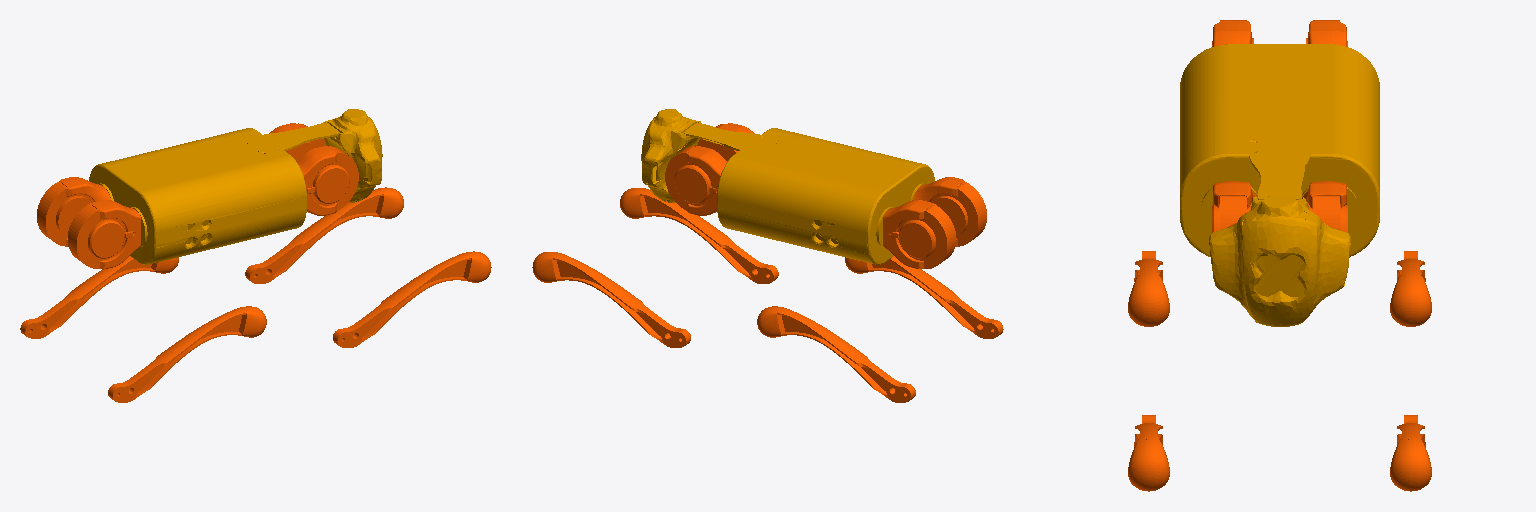
--- Facts derived from the render (not from the file) ---
Views: 3 orthographic renders of the robot side by side, from view 1: azimuth 30°, elevation 25°; view 2: azimuth 150°, elevation 25°; view 3: azimuth 270°, elevation 25°.
Robot: robot — 18 links, 17 joints (12 revolute, 5 fixed); root link base; default pose: all joints at 0 but 4 set to mid-range because 0 is outside their limits (FL_calf_joint = -1.85, RL_calf_joint = -1.85, FR_calf_joint = -1.85, RR_calf_joint = -1.85).
Visible links, largest first — view 1: base, RR_hip, RR_calf, FR_calf, FL_calf, FR_hip, RL_calf, RL_hip, FL_hip; view 2: base, RL_hip, RL_calf, FL_calf, FR_calf, FL_hip, RR_calf, RR_hip, FR_hip; view 3: base, FL_calf, FR_calf, RL_calf, RR_calf, FL_hip, FR_hip, RL_hip, RR_hip.
Boxes of the visible links, x1,y1,x2,y2 form: base: (89,109,382,264); RR_hip: (68,200,140,268); RR_calf: (108,306,266,402); FR_calf: (333,251,491,347); FL_calf: (245,187,403,283); FR_hip: (297,146,358,215); RL_calf: (20,256,178,338); RL_hip: (37,177,110,246); FL_hip: (269,123,326,161); base: (641,109,934,264); RL_hip: (883,200,955,268); RL_calf: (757,306,915,402); FL_calf: (532,252,690,347); FR_calf: (620,188,778,283); FL_hip: (665,146,726,215); RR_calf: (845,256,1003,338); RR_hip: (913,177,986,246); FR_hip: (697,123,754,160); base: (1180,44,1379,326); FL_calf: (1390,415,1431,491); FR_calf: (1128,415,1169,491); RL_calf: (1390,251,1431,326); RR_calf: (1128,251,1169,326); FL_hip: (1302,181,1347,277); FR_hip: (1212,181,1257,232); RL_hip: (1306,20,1347,46); RR_hip: (1212,20,1253,46).
Size in the robot's own frame: 0.6511 by 0.294 by 0.3019 metres.
Meshes: 5 distinct files referenced, 9 mesh visuals loaded (3 binary STL); not drawn: 4 (reference not matched to a file when rendering).

The robot description file, URDF, robot "robot":
<?xml version="1.0" ?>
<!-- =================================================================================== -->
<!-- |    This document was autogenerated by xacro from robot.xacro                    | -->
<!-- |    EDITING THIS FILE BY HAND IS NOT RECOMMENDED                                 | -->
<!-- =================================================================================== -->
<robot name="robot">
  <material name="black">
    <color rgba="0.0 0.0 0.0 1.0"/>
  </material>
  <material name="blue">
    <color rgba="0.0 0.0 0.8 1.0"/>
  </material>
  <material name="green">
    <color rgba="0.0 0.8 0.0 1.0"/>
  </material>
  <material name="grey">
    <color rgba="0.2 0.2 0.2 1.0"/>
  </material>
  <material name="silver">
    <color rgba="0.9137254901960784 0.9137254901960784 0.8470588235294118 1.0"/>
  </material>
  <material name="orange">
    <color rgba="1.0 0.4235294117647059 0.0392156862745098 1.0"/>
  </material>
  <material name="brown">
    <color rgba="0.8705882352941177 0.8117647058823529 0.7647058823529411 1.0"/>
  </material>
  <material name="red">
    <color rgba="0.8 0.0 0.0 1.0"/>
  </material>
  <material name="white">
    <color rgba="1.0 1.0 1.0 1.0"/>
  </material>
  <!-- ros_control plugin -->
  <gazebo>
    <plugin filename="liblegged_hw_sim.so" name="gazebo_ros_control">
      <robotNamespace>/</robotNamespace>
      <robotParam>legged_robot_description</robotParam>
      <robotSimType>legged_gazebo/LeggedHWSim</robotSimType>
    </plugin>
  </gazebo>
  <gazebo>
    <plugin filename="libgazebo_ros_p3d.so" name="p3d_base_controller">
      <alwaysOn>true</alwaysOn>
      <updateRate>1000.0</updateRate>
      <bodyName>base</bodyName>
      <topicName>ground_truth/state</topicName>
      <gaussianNoise>0</gaussianNoise>
      <frameName>world</frameName>
      <xyzOffsets>0 0 0</xyzOffsets>
      <rpyOffsets>0 0 0</rpyOffsets>
    </plugin>
  </gazebo>

  <!-- <link name="world_base">
    <visual>
      <origin rpy="0 0 0" xyz="0 0 0"/>
      <geometry>
        <box size="0.001 0.001 0.001"/>
      </geometry>
    </visual>
  </link>
  <joint name="floating_base" type="floating">
    <origin rpy="0 0 0" xyz="0 0 0"/>
    <parent link="world_base"/>
    <child link="base"/>
  </joint> -->

  <link name="base">
    <visual>
      <origin rpy="0 0 0" xyz="0 0 0"/>
      <geometry>
        <mesh filename="../meshes/trunk.stl" scale="1 1 1"/>
      </geometry>
    </visual>
    <collision>
      <origin rpy="0 0 0" xyz="0 0 0"/>
      <geometry>
        <box size="0.3762 0.0935 0.114"/>
      </geometry>
    </collision>
    <inertial>
      <origin rpy="0 0 0" xyz="0.0223 0.002 -0.0005"/>
      <mass value="5.204"/>
      <inertia ixx="0.0168128557" ixy="-0.0002296769" ixz="-0.0002945293" iyy="0.063009565" iyz="-4.18731e-05" izz="0.0716547275"/>
    </inertial>
  </link>
  <!-- Imu is fixed to the base link -->
  <joint name="imu_joint" type="fixed">
    <origin rpy="0. 0. 0." xyz="0. 0. 0."/>
    <parent link="base"/>
    <child link="imu"/>
  </joint>
  <!-- Imu link -->
  <link name="imu">
    <inertial>
      <mass value="0.01"/>
      <origin rpy="0 0 0" xyz="0 0 0"/>
      <inertia ixx="0.000001" ixy="0" ixz="0" iyy="0.000001" iyz="0" izz="0.000001"/>
    </inertial>
    <visual>
      <origin rpy="0 0 0" xyz="0 0 0"/>
      <geometry>
        <box size="0.015 0.015 0.004"/>
      </geometry>
    </visual>
    <material name="orange">
      <color rgba="255 108 10 255"/>
    </material>
  </link>
  <gazebo reference="imu">
    <material>Gazebo/Orange</material>
  </gazebo>
  <gazebo reference="imu_joint">
    <disableFixedJointLumping>true</disableFixedJointLumping>
  </gazebo>
  <joint name="FL_hip_joint" type="revolute">
    <origin rpy="0 0 0" xyz="0.1881 0.04675 0"/>
    <parent link="base"/>
    <child link="FL_hip"/>
    <axis xyz="1 0 0"/>
    <dynamics damping="0.0" friction="0.0"/>
    <limit effort="23.7" lower="-0.863" upper="0.863" velocity="30.1"/>
  </joint>
  <link name="FL_hip">
    <visual>
      <origin rpy="0 0 0" xyz="0 0 0"/>
      <geometry>
        <mesh filename="../meshes/hip.stl" scale="1 1 1"/>
      </geometry>
      <material name="orange"/>
    </visual>
    <!-- <collision>
      <origin rpy="1.5707963267948966 0 0" xyz="0 0 0"/>
      <geometry>
        <cylinder length="0.04" radius="0.046"/>
      </geometry>
    </collision> -->
    <inertial>
      <origin rpy="0 0 0" xyz="-0.005657 -0.008752 -0.000102"/>
      <mass value="0.591"/>
      <inertia ixx="0.000334008405" ixy="-1.0826066e-05" ixz="1.290732e-06" iyy="0.000619101213" iyz="1.643194e-06" izz="0.00040057614"/>
    </inertial>
  </link>
  <joint name="FL_thigh_joint" type="revolute">
    <origin rpy="0 0 0" xyz="0 0.08 0"/>
    <parent link="FL_hip"/>
    <child link="FL_thigh"/>
    <axis xyz="0 1 0"/>
    <dynamics damping="0.0" friction="0.0"/>
    <limit effort="23.7" lower="-0.686" upper="4.501" velocity="30.1"/>
  </joint>
  <link name="FL_thigh">
    <visual>
      <origin rpy="0 0 0" xyz="0 0 0"/>
      <geometry>
        <mesh filename="../meshes/thigh.stl" scale="1 1 1"/>
      </geometry>
      <material name="orange"/>
    </visual>
    <collision>
      <origin rpy="0 1.6707963267948966 0" xyz="-0.015 0 -0.1065"/>
      <geometry>
        <box size="0.213 0.0245 0.034"/>
      </geometry>
    </collision>
    <!-- fuck -->
    <!-- <collision>
      <origin rpy="1.5707963267948966 0 0" xyz="0 -0.008 0"/>
      <geometry>
        <cylinder length="0.032" radius="0.041"/>
      </geometry>
    </collision> -->
    <inertial>
      <origin rpy="0 0 0" xyz="-0.003342 -0.018054 -0.033451"/>
      <mass value="0.92"/>
      <inertia ixx="0.004431760472" ixy="5.7496807e-05" ixz="-0.000218457134" iyy="0.004485671726" iyz="0.000572001265" izz="0.000740309489"/>
    </inertial>
  </link>
  <joint name="FL_calf_joint" type="revolute">
    <origin rpy="0 0 0" xyz="0 0 -0.213"/>
    <parent link="FL_thigh"/>
    <child link="FL_calf"/>
    <axis xyz="0 1 0"/>
    <dynamics damping="0.0" friction="0.0"/>
    <limit effort="35.55" lower="-2.818" upper="-0.888" velocity="20.06"/>
  </joint>
  <link name="FL_calf">
    <visual>
      <origin rpy="0 0 0" xyz="0 0 0"/>
      <geometry>
        <mesh filename="../meshes/calf.stl" scale="1 1 1"/>
      </geometry>
      <material name="orange"/>
    </visual>
    <collision>
      <origin rpy="0 1.5707963267948966 0" xyz="0.0 0 -0.1065"/>
      <geometry>
        <box size="0.213 0.016 0.016"/>
      </geometry>
    </collision>
    <inertial>
      <origin rpy="0 0 0" xyz="0.006197 0.001408 -0.116695"/>
      <mass value="0.135862"/>
      <inertia ixx="0.001088793059" ixy="-2.55679e-07" ixz="7.117814e-06" iyy="0.001100428748" iyz="2.077264e-06" izz="2.4787446e-05"/>
    </inertial>
  </link>
  <joint dont_collapse="true" name="FL_foot_fixed" type="fixed">
    <origin rpy="0 0 0" xyz="0 0 -0.213"/>
    <parent link="FL_calf"/>
    <child link="FL_foot"/>
  </joint>
  <link name="FL_foot">
    <visual>
      <origin rpy="0 0 0" xyz="0 0 0"/>
      <geometry>
        <sphere radius="0.01"/>
      </geometry>
      <material name="orange"/>
    </visual>
    <collision>
      <origin rpy="0 0 0" xyz="0 0 0"/>
      <geometry>
        <sphere radius="0.02"/>
      </geometry>
    </collision>
    <inertial>
      <mass value="0.06"/>
      <inertia ixx="9.600000000000001e-06" ixy="0.0" ixz="0.0" iyy="9.600000000000001e-06" iyz="0.0" izz="9.600000000000001e-06"/>
    </inertial>
  </link>
  <gazebo reference="FL_foot_fixed">
    <disableFixedJointLumping>true</disableFixedJointLumping>
  </gazebo>
  <gazebo reference="FL_hip">
    <mu1>0.2</mu1>
    <mu2>0.2</mu2>
    <material>Gazebo/DarkGrey</material>
  </gazebo>
  <gazebo reference="FL_thigh">
    <mu1>0.2</mu1>
    <mu2>0.2</mu2>
    <self_collide>0</self_collide>
    <material>Gazebo/DarkGrey</material>
    <kp value="1000000.0"/>
    <kd value="100.0"/>
  </gazebo>
  <gazebo reference="FL_calf">
    <mu1>0.6</mu1>
    <mu2>0.6</mu2>
    <self_collide>1</self_collide>
  </gazebo>
  <gazebo reference="FL_foot">
    <mu1>0.6</mu1>
    <mu2>0.6</mu2>
    <self_collide>1</self_collide>
    <material>Gazebo/DarkGrey</material>
    <kp value="1000000.0"/>
    <kd value="100.0"/>
  </gazebo>
  <transmission name="FL_HAA_tran">
    <type>transmission_interface/SimpleTransmission</type>
    <joint name="FL_HAA">
      <hardwareInterface>hardware_interface/EffortJointInterface</hardwareInterface>
    </joint>
    <actuator name="FL_HAA_motor">
      <hardwareInterface>hardware_interface/EffortJointInterface</hardwareInterface>
      <mechanicalReduction>1</mechanicalReduction>
    </actuator>
  </transmission>
  <transmission name="FL_HFE_tran">
    <type>transmission_interface/SimpleTransmission</type>
    <joint name="FL_HFE">
      <hardwareInterface>hardware_interface/EffortJointInterface</hardwareInterface>
    </joint>
    <actuator name="FL_HFE_motor">
      <hardwareInterface>hardware_interface/EffortJointInterface</hardwareInterface>
      <mechanicalReduction>1</mechanicalReduction>
    </actuator>
  </transmission>
  <transmission name="FL_KFE_tran">
    <type>transmission_interface/SimpleTransmission</type>
    <joint name="FL_KFE">
      <hardwareInterface>hardware_interface/EffortJointInterface</hardwareInterface>
    </joint>
    <actuator name="FL_KFE_motor">
      <hardwareInterface>hardware_interface/EffortJointInterface</hardwareInterface>
      <mechanicalReduction>1</mechanicalReduction>
    </actuator>
  </transmission>
  <joint name="RL_hip_joint" type="revolute">
    <origin rpy="0 0 0" xyz="-0.1881 0.04675 0"/>
    <parent link="base"/>
    <child link="RL_hip"/>
    <axis xyz="1 0 0"/>
    <dynamics damping="0.0" friction="0.0"/>
    <limit effort="23.7" lower="-0.863" upper="0.863" velocity="30.1"/>
  </joint>
  <link name="RL_hip">
    <visual>
      <origin rpy="0 3.141592653589793 0" xyz="0 0 0"/>
      <geometry>
        <mesh filename="../meshes/hip.stl" scale="1 1 1"/>
      </geometry>
      <material name="orange"/>
    </visual>
    <!-- <collision>
      <origin rpy="1.5707963267948966 0 0" xyz="0 0 0"/>
      <geometry>
        <cylinder length="0.04" radius="0.046"/>
      </geometry>
    </collision> -->
    <inertial>
      <origin rpy="0 0 0" xyz="0.005657 -0.008752 -0.000102"/>
      <mass value="0.591"/>
      <inertia ixx="0.000334008405" ixy="1.0826066e-05" ixz="-1.290732e-06" iyy="0.000619101213" iyz="1.643194e-06" izz="0.00040057614"/>
    </inertial>
  </link>
  <joint name="RL_thigh_joint" type="revolute">
    <origin rpy="0 0 0" xyz="0 0.08 0"/>
    <parent link="RL_hip"/>
    <child link="RL_thigh"/>
    <axis xyz="0 1 0"/>
    <dynamics damping="0.0" friction="0.0"/>
    <limit effort="23.7" lower="-0.686" upper="4.501" velocity="30.1"/>
  </joint>
  <link name="RL_thigh">
    <visual>
      <origin rpy="0 0 0" xyz="0 0 0"/>
      <geometry>
        <mesh filename="../meshes/thigh.stl" scale="1 1 1"/>
      </geometry>
      <material name="orange"/>
    </visual>
    <collision>
      <origin rpy="0 1.6707963267948966 0" xyz="-0.015 0 -0.1065"/>
      <geometry>
        <box size="0.213 0.0245 0.034"/>
      </geometry>
    </collision>
    <!-- fuck -->
    <!-- <collision>
      <origin rpy="1.5707963267948966 0 0" xyz="0 -0.008 0"/>
      <geometry>
        <cylinder length="0.032" radius="0.041"/>
      </geometry>
    </collision> -->
    <inertial>
      <origin rpy="0 0 0" xyz="-0.003342 -0.018054 -0.033451"/>
      <mass value="0.92"/>
      <inertia ixx="0.004431760472" ixy="5.7496807e-05" ixz="-0.000218457134" iyy="0.004485671726" iyz="0.000572001265" izz="0.000740309489"/>
    </inertial>
  </link>
  <joint name="RL_calf_joint" type="revolute">
    <origin rpy="0 0 0" xyz="0 0 -0.213"/>
    <parent link="RL_thigh"/>
    <child link="RL_calf"/>
    <axis xyz="0 1 0"/>
    <dynamics damping="0.0" friction="0.0"/>
    <limit effort="35.55" lower="-2.818" upper="-0.888" velocity="20.06"/>
  </joint>
  <link name="RL_calf">
    <visual>
      <origin rpy="0 0 0" xyz="0 0 0"/>
      <geometry>
        <mesh filename="../meshes/calf.stl" scale="1 1 1"/>
      </geometry>
      <material name="orange"/>
    </visual>
    <collision>
      <origin rpy="0 1.5707963267948966 0" xyz="0.0 0 -0.1065"/>
      <geometry>
        <box size="0.213 0.016 0.016"/>
      </geometry>
    </collision>
    <inertial>
      <origin rpy="0 0 0" xyz="0.006197 0.001408 -0.116695"/>
      <mass value="0.135862"/>
      <inertia ixx="0.001088793059" ixy="-2.55679e-07" ixz="7.117814e-06" iyy="0.001100428748" iyz="2.077264e-06" izz="2.4787446e-05"/>
    </inertial>
  </link>
  <joint dont_collapse="true" name="RL_foot_fixed" type="fixed">
    <origin rpy="0 0 0" xyz="0 0 -0.213"/>
    <parent link="RL_calf"/>
    <child link="RL_foot"/>
  </joint>
  <link name="RL_foot">
    <visual>
      <origin rpy="0 0 0" xyz="0 0 0"/>
      <geometry>
        <sphere radius="0.01"/>
      </geometry>
      <material name="orange"/>
    </visual>
    <collision>
      <origin rpy="0 0 0" xyz="0 0 0"/>
      <geometry>
        <sphere radius="0.02"/>
      </geometry>
    </collision>
    <inertial>
      <mass value="0.06"/>
      <inertia ixx="9.600000000000001e-06" ixy="0.0" ixz="0.0" iyy="9.600000000000001e-06" iyz="0.0" izz="9.600000000000001e-06"/>
    </inertial>
  </link>
  <gazebo reference="RL_foot_fixed">
    <disableFixedJointLumping>true</disableFixedJointLumping>
  </gazebo>
  <gazebo reference="RL_hip">
    <mu1>0.2</mu1>
    <mu2>0.2</mu2>
    <material>Gazebo/DarkGrey</material>
  </gazebo>
  <gazebo reference="RL_thigh">
    <mu1>0.2</mu1>
    <mu2>0.2</mu2>
    <self_collide>0</self_collide>
    <material>Gazebo/DarkGrey</material>
    <kp value="1000000.0"/>
    <kd value="100.0"/>
  </gazebo>
  <gazebo reference="RL_calf">
    <mu1>0.6</mu1>
    <mu2>0.6</mu2>
    <self_collide>1</self_collide>
  </gazebo>
  <gazebo reference="RL_foot">
    <mu1>0.6</mu1>
    <mu2>0.6</mu2>
    <self_collide>1</self_collide>
    <material>Gazebo/DarkGrey</material>
    <kp value="1000000.0"/>
    <kd value="100.0"/>
  </gazebo>
  <transmission name="RL_HAA_tran">
    <type>transmission_interface/SimpleTransmission</type>
    <joint name="RL_HAA">
      <hardwareInterface>hardware_interface/EffortJointInterface</hardwareInterface>
    </joint>
    <actuator name="RL_HAA_motor">
      <hardwareInterface>hardware_interface/EffortJointInterface</hardwareInterface>
      <mechanicalReduction>1</mechanicalReduction>
    </actuator>
  </transmission>
  <transmission name="RL_HFE_tran">
    <type>transmission_interface/SimpleTransmission</type>
    <joint name="RL_HFE">
      <hardwareInterface>hardware_interface/EffortJointInterface</hardwareInterface>
    </joint>
    <actuator name="RL_HFE_motor">
      <hardwareInterface>hardware_interface/EffortJointInterface</hardwareInterface>
      <mechanicalReduction>1</mechanicalReduction>
    </actuator>
  </transmission>
  <transmission name="RL_KFE_tran">
    <type>transmission_interface/SimpleTransmission</type>
    <joint name="RL_KFE">
      <hardwareInterface>hardware_interface/EffortJointInterface</hardwareInterface>
    </joint>
    <actuator name="RL_KFE_motor">
      <hardwareInterface>hardware_interface/EffortJointInterface</hardwareInterface>
      <mechanicalReduction>1</mechanicalReduction>
    </actuator>
  </transmission>
  <joint name="FR_hip_joint" type="revolute">
    <origin rpy="0 0 0" xyz="0.1881 -0.04675 0"/>
    <parent link="base"/>
    <child link="FR_hip"/>
    <axis xyz="1 0 0"/>
    <dynamics damping="0.0" friction="0.0"/>
    <limit effort="23.7" lower="-0.863" upper="0.863" velocity="30.1"/>
  </joint>
  <link name="FR_hip">
    <visual>
      <origin rpy="3.141592653589793 0 0" xyz="0 0 0"/>
      <geometry>
        <mesh filename="../meshes/hip.stl" scale="1 1 1"/>
      </geometry>
      <material name="orange"/>
    </visual>
    <!-- <collision>
      <origin rpy="1.5707963267948966 0 0" xyz="0 0 0"/>
      <geometry>
        <cylinder length="0.04" radius="0.046"/>
      </geometry>
    </collision> -->
    <inertial>
      <origin rpy="0 0 0" xyz="-0.005657 0.008752 -0.000102"/>
      <mass value="0.591"/>
      <inertia ixx="0.000334008405" ixy="1.0826066e-05" ixz="1.290732e-06" iyy="0.000619101213" iyz="-1.643194e-06" izz="0.00040057614"/>
    </inertial>
  </link>
  <joint name="FR_thigh_joint" type="revolute">
    <origin rpy="0 0 0" xyz="0 -0.08 0"/>
    <parent link="FR_hip"/>
    <child link="FR_thigh"/>
    <axis xyz="0 1 0"/>
    <dynamics damping="0.0" friction="0.0"/>
    <limit effort="23.7" lower="-0.686" upper="4.501" velocity="30.1"/>
  </joint>
  <link name="FR_thigh">
    <visual>
      <origin rpy="0 0 0" xyz="0 0 0"/>
      <geometry>
        <mesh filename="../meshes/thigh_mirror.stl" scale="1 1 1"/>
      </geometry>
      <material name="orange"/>
    </visual>
    <collision>
      <origin rpy="0 1.6707963267948966 0" xyz="-0.015 0 -0.1065"/>
      <geometry>
        <box size="0.213 0.0245 0.034"/>
      </geometry>
    </collision>
    <!-- fuck -->
    <!-- <collision>
      <origin rpy="1.5707963267948966 0 0" xyz="0 0.008 0"/>
      <geometry>
        <cylinder length="0.032" radius="0.041"/>
      </geometry>
    </collision> -->
    <inertial>
      <origin rpy="0 0 0" xyz="-0.003342 0.018054 -0.033451"/>
      <mass value="0.92"/>
      <inertia ixx="0.004431760472" ixy="-5.7496807e-05" ixz="-0.000218457134" iyy="0.004485671726" iyz="-0.000572001265" izz="0.000740309489"/>
    </inertial>
  </link>
  <joint name="FR_calf_joint" type="revolute">
    <origin rpy="0 0 0" xyz="0 0 -0.213"/>
    <parent link="FR_thigh"/>
    <child link="FR_calf"/>
    <axis xyz="0 1 0"/>
    <dynamics damping="0.0" friction="0.0"/>
    <limit effort="35.55" lower="-2.818" upper="-0.888" velocity="20.06"/>
  </joint>
  <link name="FR_calf">
    <visual>
      <origin rpy="0 0 0" xyz="0 0 0"/>
      <geometry>
        <mesh filename="../meshes/calf.stl" scale="1 1 1"/>
      </geometry>
      <material name="orange"/>
    </visual>
    <collision>
      <origin rpy="0 1.5707963267948966 0" xyz="0.0 0 -0.1065"/>
      <geometry>
        <box size="0.213 0.016 0.016"/>
      </geometry>
    </collision>
    <inertial>
      <origin rpy="0 0 0" xyz="0.006197 0.001408 -0.116695"/>
      <mass value="0.135862"/>
      <inertia ixx="0.001088793059" ixy="-2.55679e-07" ixz="7.117814e-06" iyy="0.001100428748" iyz="2.077264e-06" izz="2.4787446e-05"/>
    </inertial>
  </link>
  <joint dont_collapse="true" name="FR_foot_fixed" type="fixed">
    <origin rpy="0 0 0" xyz="0 0 -0.213"/>
    <parent link="FR_calf"/>
    <child link="FR_foot"/>
  </joint>
  <link name="FR_foot">
    <visual>
      <origin rpy="0 0 0" xyz="0 0 0"/>
      <geometry>
        <sphere radius="0.01"/>
      </geometry>
      <material name="orange"/>
    </visual>
    <collision>
      <origin rpy="0 0 0" xyz="0 0 0"/>
      <geometry>
        <sphere radius="0.02"/>
      </geometry>
    </collision>
    <inertial>
      <mass value="0.06"/>
      <inertia ixx="9.600000000000001e-06" ixy="0.0" ixz="0.0" iyy="9.600000000000001e-06" iyz="0.0" izz="9.600000000000001e-06"/>
    </inertial>
  </link>
  <gazebo reference="FR_foot_fixed">
    <disableFixedJointLumping>true</disableFixedJointLumping>
  </gazebo>
  <gazebo reference="FR_hip">
    <mu1>0.2</mu1>
    <mu2>0.2</mu2>
    <material>Gazebo/DarkGrey</material>
  </gazebo>
  <gazebo reference="FR_thigh">
    <mu1>0.2</mu1>
    <mu2>0.2</mu2>
    <self_collide>0</self_collide>
    <material>Gazebo/DarkGrey</material>
    <kp value="1000000.0"/>
    <kd value="100.0"/>
  </gazebo>
  <gazebo reference="FR_calf">
    <mu1>0.6</mu1>
    <mu2>0.6</mu2>
    <self_collide>1</self_collide>
  </gazebo>
  <gazebo reference="FR_foot">
    <mu1>0.6</mu1>
    <mu2>0.6</mu2>
    <self_collide>1</self_collide>
    <material>Gazebo/DarkGrey</material>
    <kp value="1000000.0"/>
    <kd value="100.0"/>
  </gazebo>
  <transmission name="FR_HAA_tran">
    <type>transmission_interface/SimpleTransmission</type>
    <joint name="FR_HAA">
      <hardwareInterface>hardware_interface/EffortJointInterface</hardwareInterface>
    </joint>
    <actuator name="FR_HAA_motor">
      <hardwareInterface>hardware_interface/EffortJointInterface</hardwareInterface>
      <mechanicalReduction>1</mechanicalReduction>
    </actuator>
  </transmission>
  <transmission name="FR_HFE_tran">
    <type>transmission_interface/SimpleTransmission</type>
    <joint name="FR_HFE">
      <hardwareInterface>hardware_interface/EffortJointInterface</hardwareInterface>
    </joint>
    <actuator name="FR_HFE_motor">
      <hardwareInterface>hardware_interface/EffortJointInterface</hardwareInterface>
      <mechanicalReduction>1</mechanicalReduction>
    </actuator>
  </transmission>
  <transmission name="FR_KFE_tran">
    <type>transmission_interface/SimpleTransmission</type>
    <joint name="FR_KFE">
      <hardwareInterface>hardware_interface/EffortJointInterface</hardwareInterface>
    </joint>
    <actuator name="FR_KFE_motor">
      <hardwareInterface>hardware_interface/EffortJointInterface</hardwareInterface>
      <mechanicalReduction>1</mechanicalReduction>
    </actuator>
  </transmission>
  <joint name="RR_hip_joint" type="revolute">
    <origin rpy="0 0 0" xyz="-0.1881 -0.04675 0"/>
    <parent link="base"/>
    <child link="RR_hip"/>
    <axis xyz="1 0 0"/>
    <dynamics damping="0.0" friction="0.0"/>
    <limit effort="23.7" lower="-0.863" upper="0.863" velocity="30.1"/>
  </joint>
  <link name="RR_hip">
    <visual>
      <origin rpy="3.141592653589793 3.141592653589793 0" xyz="0 0 0"/>
      <geometry>
        <mesh filename="../meshes/hip.stl" scale="1 1 1"/>
      </geometry>
      <material name="orange"/>
    </visual>
    <!-- <collision>
      <origin rpy="1.5707963267948966 0 0" xyz="0 0 0"/>
      <geometry>
        <cylinder length="0.04" radius="0.046"/>
      </geometry>
    </collision> -->
    <inertial>
      <origin rpy="0 0 0" xyz="0.005657 0.008752 -0.000102"/>
      <mass value="0.591"/>
      <inertia ixx="0.000334008405" ixy="-1.0826066e-05" ixz="-1.290732e-06" iyy="0.000619101213" iyz="-1.643194e-06" izz="0.00040057614"/>
    </inertial>
  </link>
  <joint name="RR_thigh_joint" type="revolute">
    <origin rpy="0 0 0" xyz="0 -0.08 0"/>
    <parent link="RR_hip"/>
    <child link="RR_thigh"/>
    <axis xyz="0 1 0"/>
    <dynamics damping="0.0" friction="0.0"/>
    <limit effort="23.7" lower="-0.686" upper="4.501" velocity="30.1"/>
  </joint>
  <link name="RR_thigh">
    <visual>
      <origin rpy="0 0 0" xyz="0 0 0"/>
      <geometry>
        <mesh filename="../meshes/thigh_mirror.stl" scale="1 1 1"/>
      </geometry>
      <material name="orange"/>
    </visual>
    <collision>
      <origin rpy="0 1.6707963267948966 0" xyz="-0.015 0 -0.1065"/>
      <geometry>
        <box size="0.213 0.0245 0.034"/>
      </geometry>
    </collision>
    <!-- fuck -->
    <!-- <collision>
      <origin rpy="1.5707963267948966 0 0" xyz="0 0.008 0"/>
      <geometry>
        <cylinder length="0.032" radius="0.041"/>
      </geometry>
    </collision> -->
    <inertial>
      <origin rpy="0 0 0" xyz="-0.003342 0.018054 -0.033451"/>
      <mass value="0.92"/>
      <inertia ixx="0.004431760472" ixy="-5.7496807e-05" ixz="-0.000218457134" iyy="0.004485671726" iyz="-0.000572001265" izz="0.000740309489"/>
    </inertial>
  </link>
  <joint name="RR_calf_joint" type="revolute">
    <origin rpy="0 0 0" xyz="0 0 -0.213"/>
    <parent link="RR_thigh"/>
    <child link="RR_calf"/>
    <axis xyz="0 1 0"/>
    <dynamics damping="0.0" friction="0.0"/>
    <limit effort="35.55" lower="-2.818" upper="-0.888" velocity="20.06"/>
  </joint>
  <link name="RR_calf">
    <visual>
      <origin rpy="0 0 0" xyz="0 0 0"/>
      <geometry>
        <mesh filename="../meshes/calf.stl" scale="1 1 1"/>
      </geometry>
      <material name="orange"/>
    </visual>
    <collision>
      <origin rpy="0 1.5707963267948966 0" xyz="0.0 0 -0.1065"/>
      <geometry>
        <box size="0.213 0.016 0.016"/>
      </geometry>
    </collision>
    <inertial>
      <origin rpy="0 0 0" xyz="0.006197 0.001408 -0.116695"/>
      <mass value="0.135862"/>
      <inertia ixx="0.001088793059" ixy="-2.55679e-07" ixz="7.117814e-06" iyy="0.001100428748" iyz="2.077264e-06" izz="2.4787446e-05"/>
    </inertial>
  </link>
  <joint dont_collapse="true" name="RR_foot_fixed" type="fixed">
    <origin rpy="0 0 0" xyz="0 0 -0.213"/>
    <parent link="RR_calf"/>
    <child link="RR_foot"/>
  </joint>
  <link name="RR_foot">
    <visual>
      <origin rpy="0 0 0" xyz="0 0 0"/>
      <geometry>
        <sphere radius="0.01"/>
      </geometry>
      <material name="orange"/>
    </visual>
    <collision>
      <origin rpy="0 0 0" xyz="0 0 0"/>
      <geometry>
        <sphere radius="0.02"/>
      </geometry>
    </collision>
    <inertial>
      <mass value="0.06"/>
      <inertia ixx="9.600000000000001e-06" ixy="0.0" ixz="0.0" iyy="9.600000000000001e-06" iyz="0.0" izz="9.600000000000001e-06"/>
    </inertial>
  </link>
  <gazebo reference="RR_foot_fixed">
    <disableFixedJointLumping>true</disableFixedJointLumping>
  </gazebo>
  <gazebo reference="RR_hip">
    <mu1>0.2</mu1>
    <mu2>0.2</mu2>
    <material>Gazebo/DarkGrey</material>
  </gazebo>
  <gazebo reference="RR_thigh">
    <mu1>0.2</mu1>
    <mu2>0.2</mu2>
    <self_collide>0</self_collide>
    <material>Gazebo/DarkGrey</material>
    <kp value="1000000.0"/>
    <kd value="100.0"/>
  </gazebo>
  <gazebo reference="RR_calf">
    <mu1>0.6</mu1>
    <mu2>0.6</mu2>
    <self_collide>1</self_collide>
  </gazebo>
  <gazebo reference="RR_foot">
    <mu1>0.6</mu1>
    <mu2>0.6</mu2>
    <self_collide>1</self_collide>
    <material>Gazebo/DarkGrey</material>
    <kp value="1000000.0"/>
    <kd value="100.0"/>
  </gazebo>
  <transmission name="RR_HAA_tran">
    <type>transmission_interface/SimpleTransmission</type>
    <joint name="RR_HAA">
      <hardwareInterface>hardware_interface/EffortJointInterface</hardwareInterface>
    </joint>
    <actuator name="RR_HAA_motor">
      <hardwareInterface>hardware_interface/EffortJointInterface</hardwareInterface>
      <mechanicalReduction>1</mechanicalReduction>
    </actuator>
  </transmission>
  <transmission name="RR_HFE_tran">
    <type>transmission_interface/SimpleTransmission</type>
    <joint name="RR_HFE">
      <hardwareInterface>hardware_interface/EffortJointInterface</hardwareInterface>
    </joint>
    <actuator name="RR_HFE_motor">
      <hardwareInterface>hardware_interface/EffortJointInterface</hardwareInterface>
      <mechanicalReduction>1</mechanicalReduction>
    </actuator>
  </transmission>
  <transmission name="RR_KFE_tran">
    <type>transmission_interface/SimpleTransmission</type>
    <joint name="RR_KFE">
      <hardwareInterface>hardware_interface/EffortJointInterface</hardwareInterface>
    </joint>
    <actuator name="RR_KFE_motor">
      <hardwareInterface>hardware_interface/EffortJointInterface</hardwareInterface>
      <mechanicalReduction>1</mechanicalReduction>
    </actuator>
  </transmission>
</robot>
